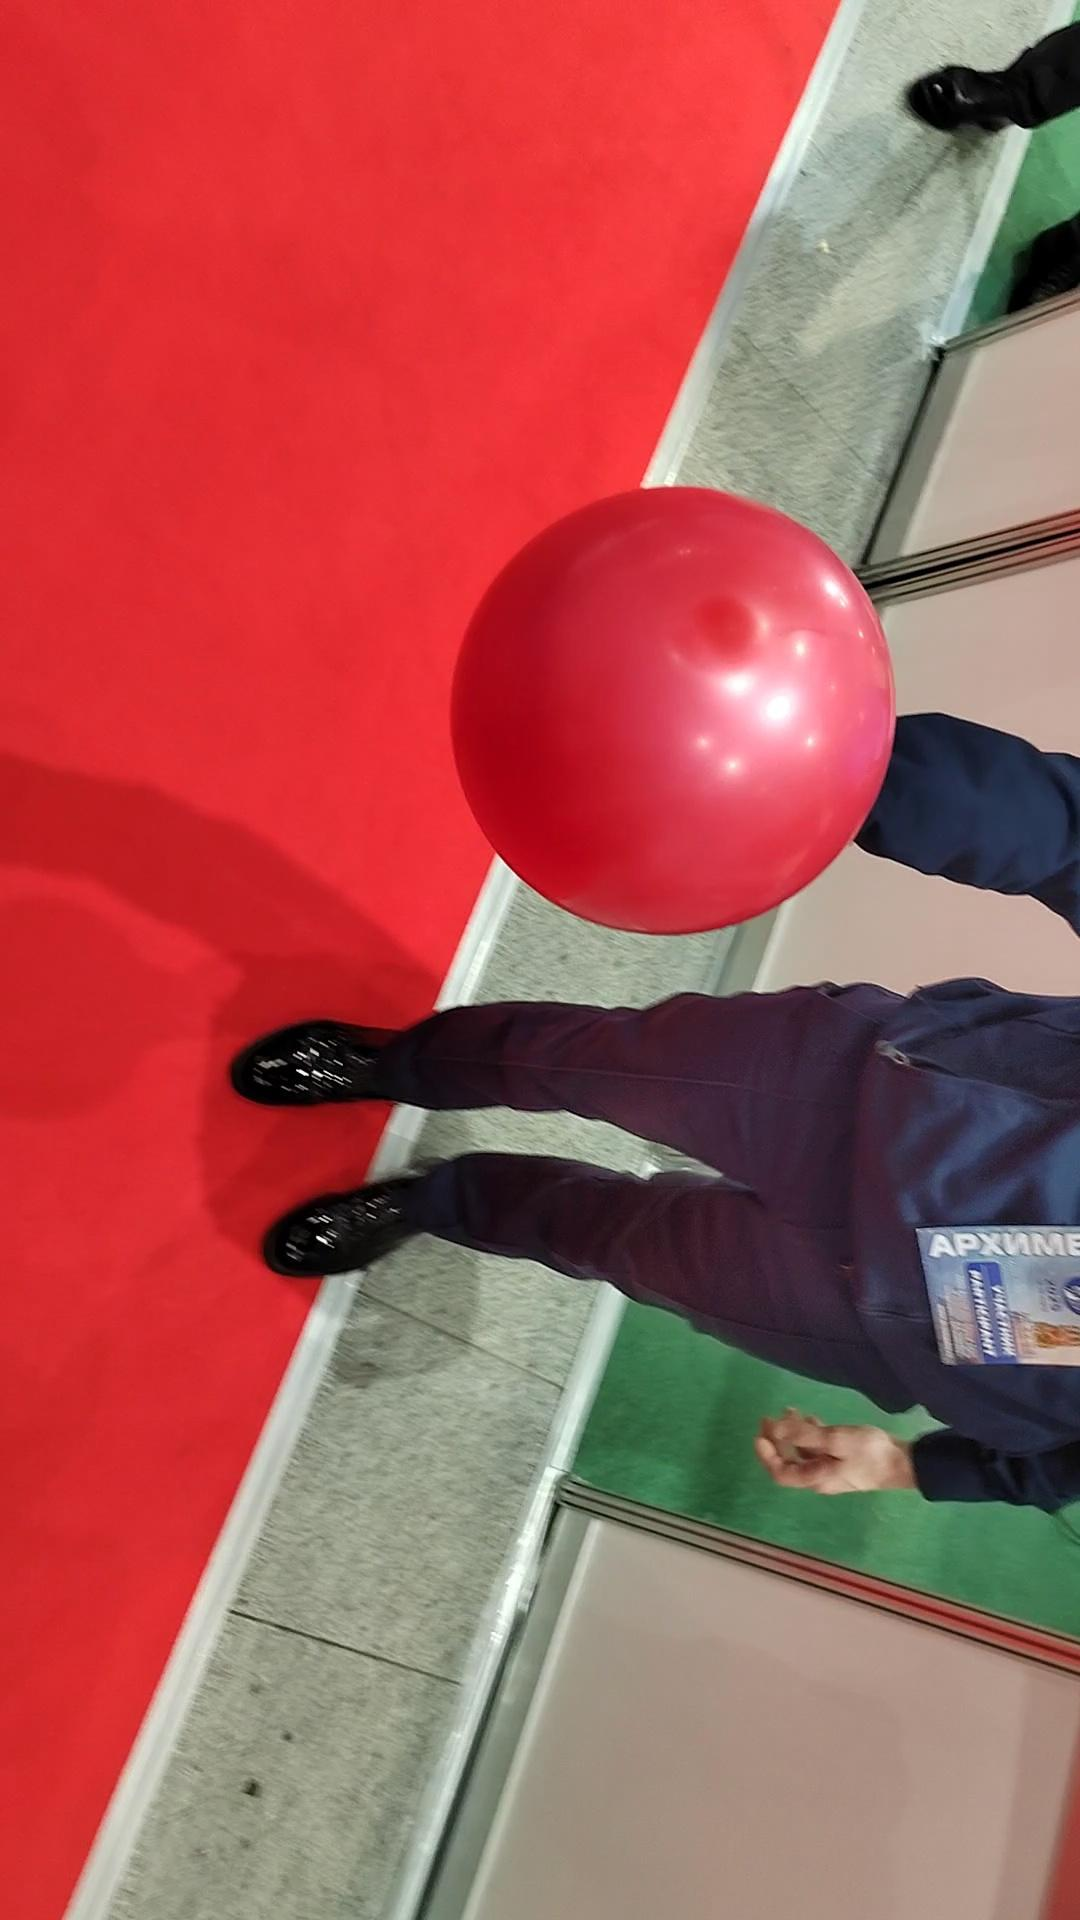red: (440, 476, 907, 938)
